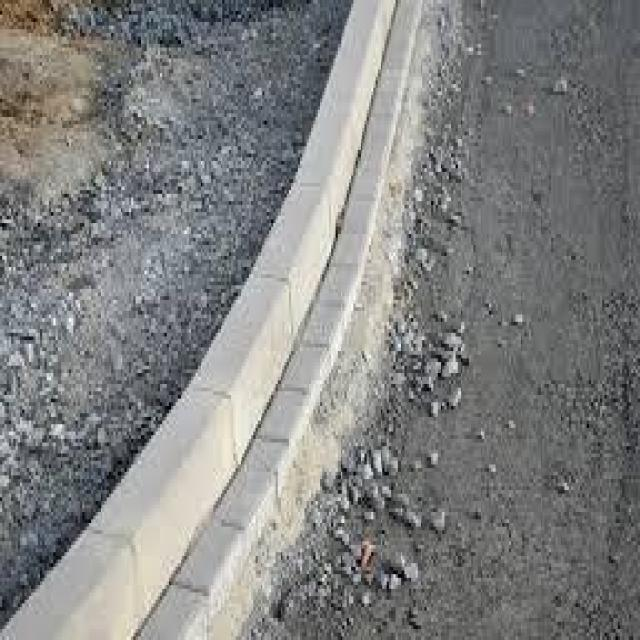bump: (27, 220, 260, 640), (225, 0, 452, 370)
